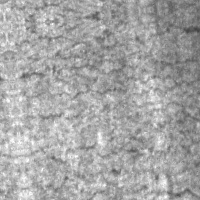crazing: (15, 7, 199, 130), (33, 110, 199, 199)
